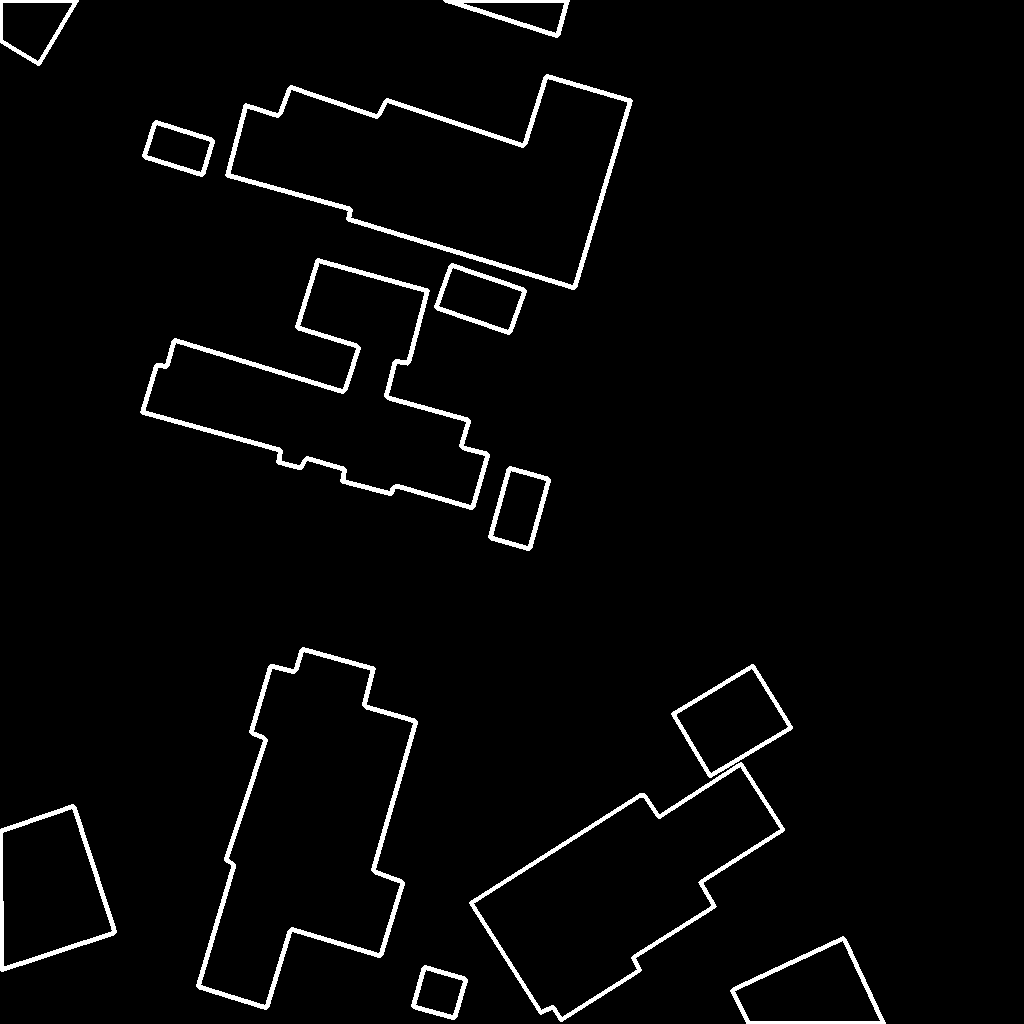building: (142, 260, 489, 509), (227, 76, 632, 289), (471, 764, 784, 1021), (198, 649, 417, 1009), (0, 806, 116, 971), (673, 666, 792, 777), (732, 938, 885, 1024), (436, 265, 526, 334), (0, 0, 78, 65), (490, 468, 550, 550), (444, 0, 569, 37), (144, 122, 214, 176), (413, 967, 467, 1019)
